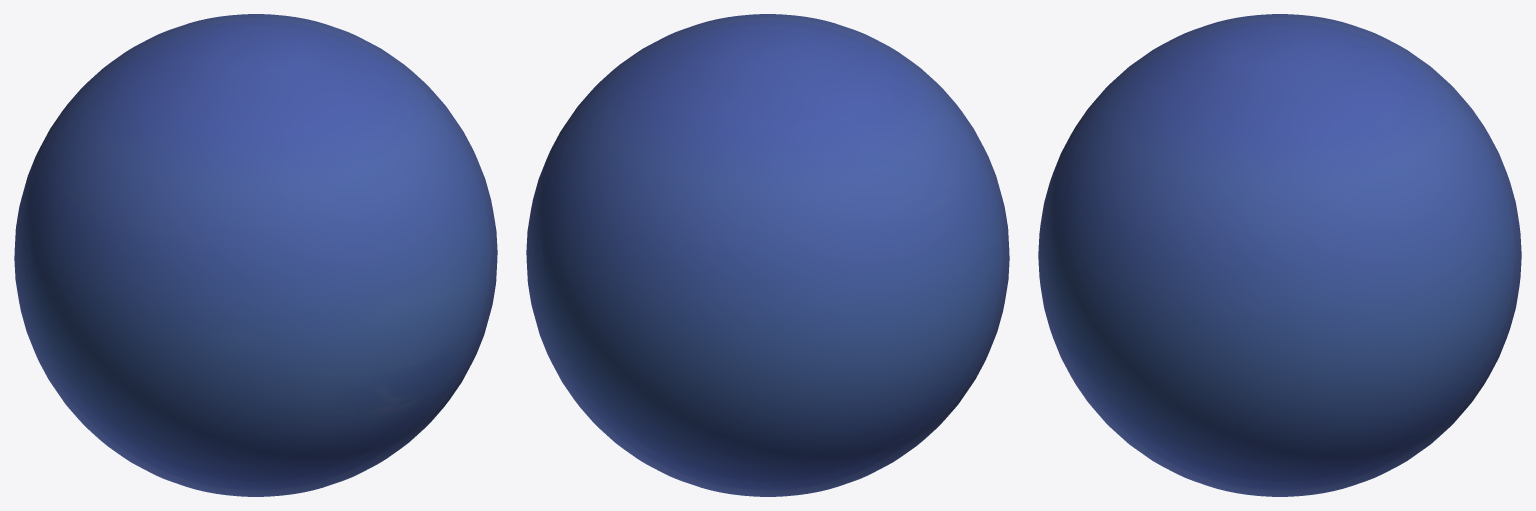
The model's file is Neptune.glb.
3 renders of one model, left to right at view 1: azimuth 30°, elevation 25°; view 2: azimuth 150°, elevation 25°; view 3: azimuth 270°, elevation 25°, orthographic.
Parts seen in each view (by area): view 1: SphereThree; view 2: SphereThree; view 3: SphereThree.
Boxes of the visible parts, bbox=[...] form: SphereThree: bbox=[14, 14, 497, 496]; SphereThree: bbox=[526, 14, 1009, 496]; SphereThree: bbox=[1038, 14, 1521, 496].
Bounding box in the file's own units: 575 × 575 × 575.
